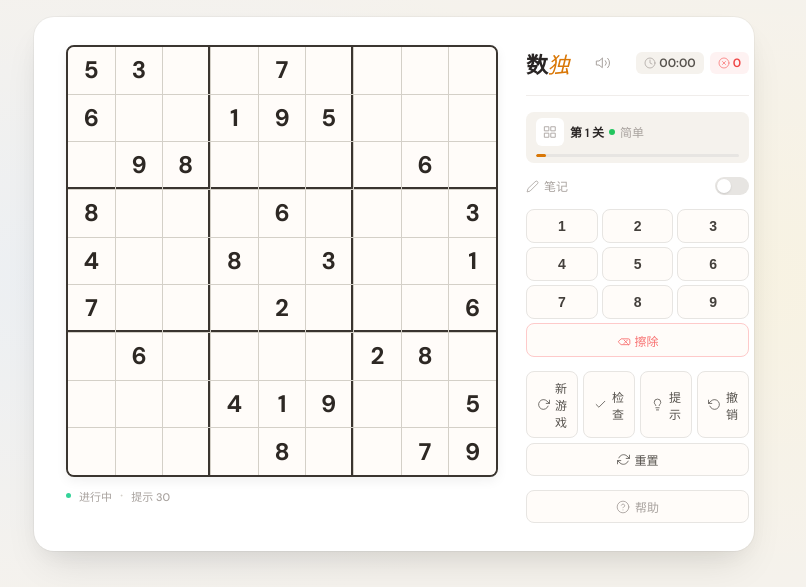
Test: App integration — keyboard input › click cell then type number enters value on board
The width and height of the screenshot is (806, 587).
Click the 3rd element with class "cell" at (187, 70), box [163,47,210,94]
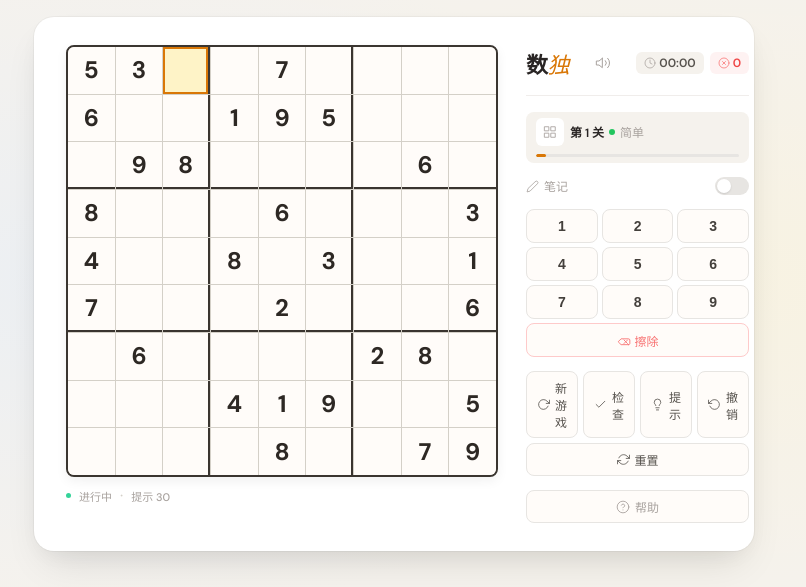
Type keys "4"
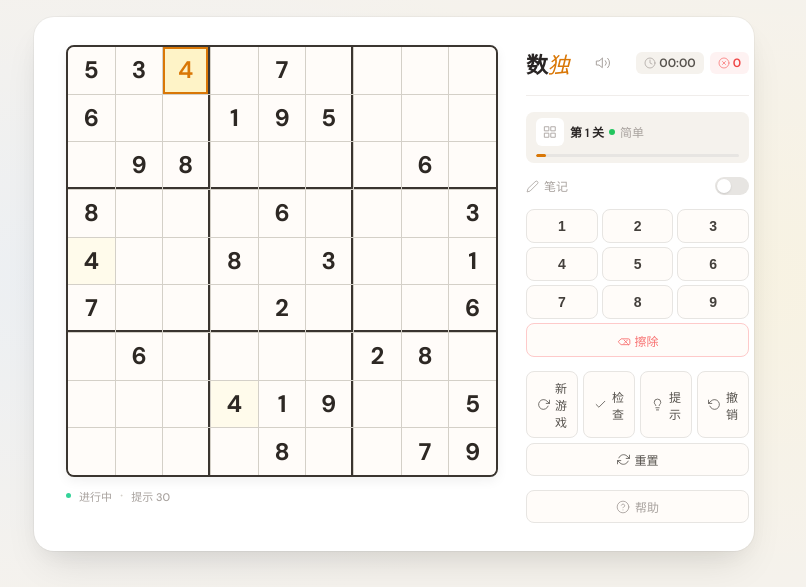
expect the 1st element with class "cell" reads "4": met, box [178,54,193,85]
